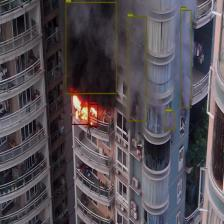fire: (72, 92, 88, 124), (90, 104, 98, 127)
smoke: (66, 2, 116, 94), (128, 16, 146, 121), (180, 10, 191, 108), (166, 111, 175, 129)
